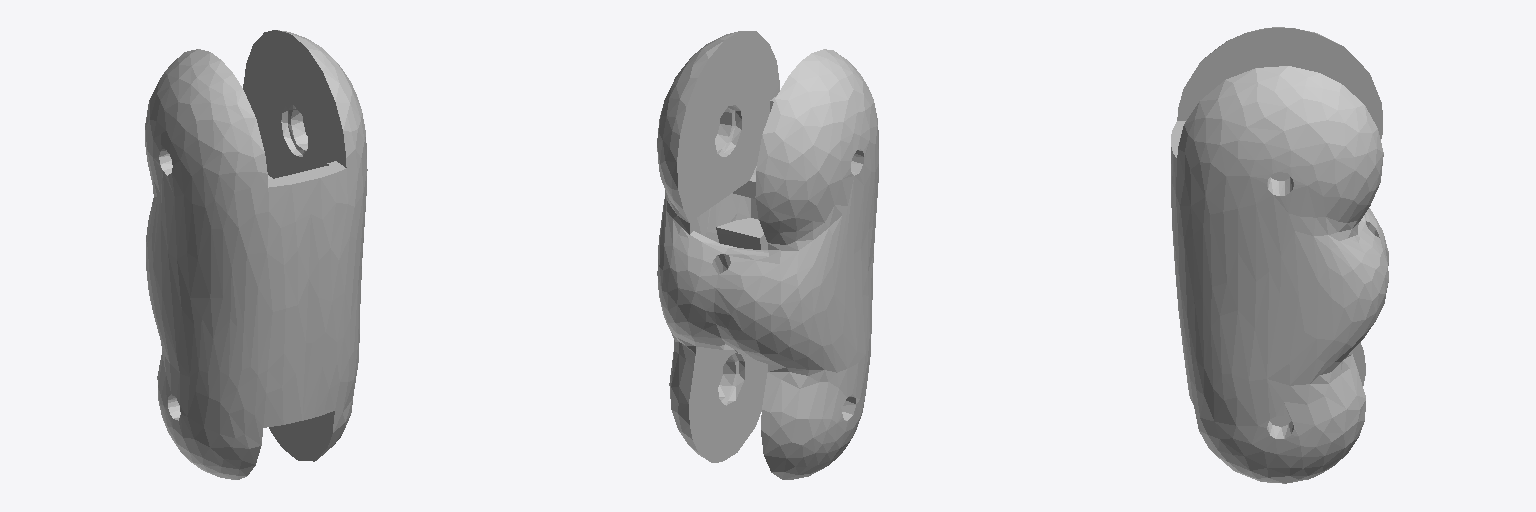
The model's file is armar-7_index_proximal_phalanx.obj.
3 views of the same model, side by side, from view 1: azimuth 30°, elevation 25°; view 2: azimuth 150°, elevation 25°; view 3: azimuth 270°, elevation 25° (orthographic).
Bounding box in the file's own units: 0.023 × 0.0513 × 0.0242.